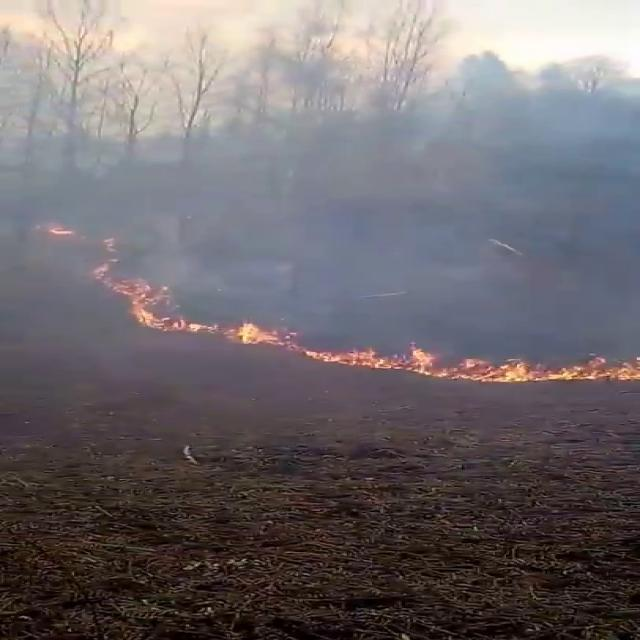Fire: (299, 337, 640, 384), (94, 270, 224, 336)
Smoke: (1, 0, 640, 346)
